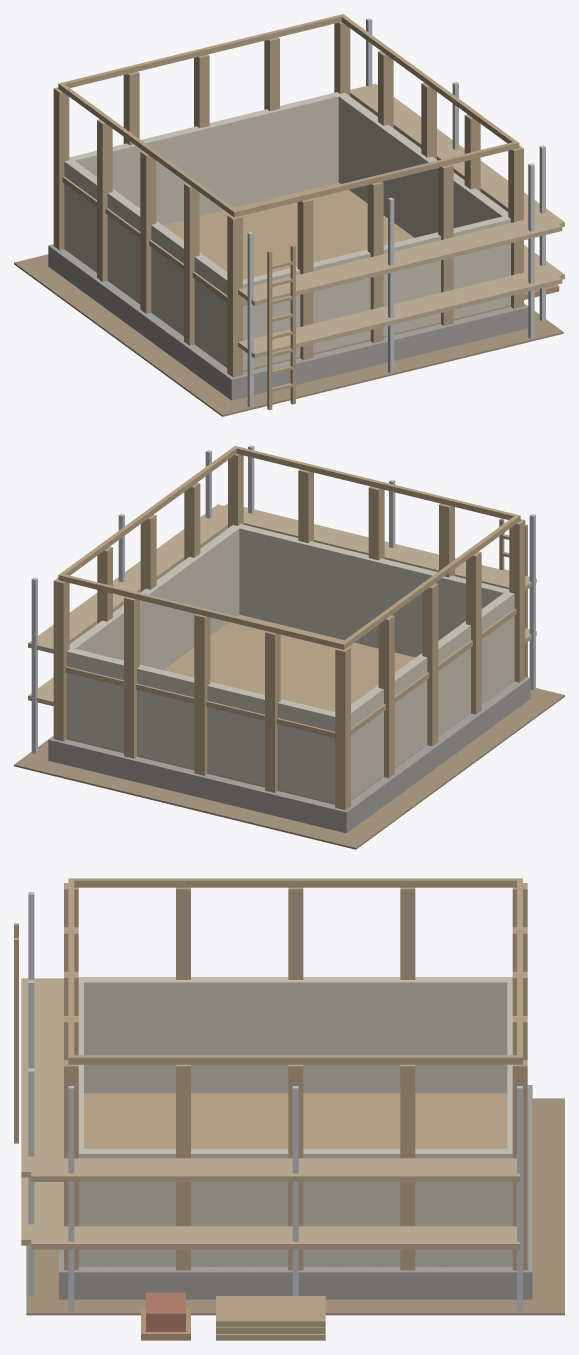
Rendered from bakery_site_6.glb.
3 renders of one model, top to bottom at view 1: azimuth 30°, elevation 25°; view 2: azimuth 150°, elevation 25°; view 3: azimuth 270°, elevation 25°, orthographic. The views are drawn at different scales.
Parts seen in each view (by area): view 1: body; view 2: body; view 3: body.
Boxes of the visible parts, x1,y1,x2,y2 form: body: (14, 14, 564, 416); body: (14, 445, 564, 849); body: (14, 878, 564, 1340).
Size of the model in its own units: 2.28 by 1.06 by 2.21.
